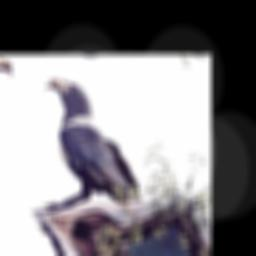Crow: (8, 74, 173, 244)
